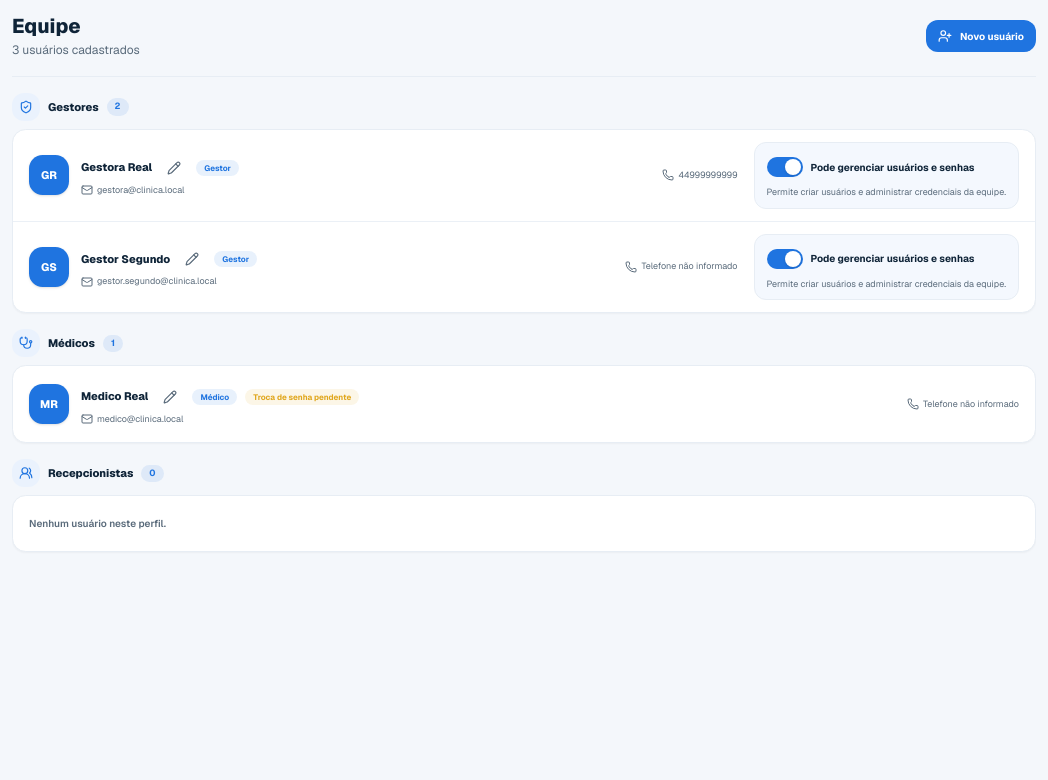
Test: EquipeClient › should_rollback_permission_when_backend_rejects_update
The width and height of the screenshot is (1048, 780).
Click the switch named "Pode gerenciar usuários e senhas: Gestor Segundo": (784, 259) [766,249,802,269]
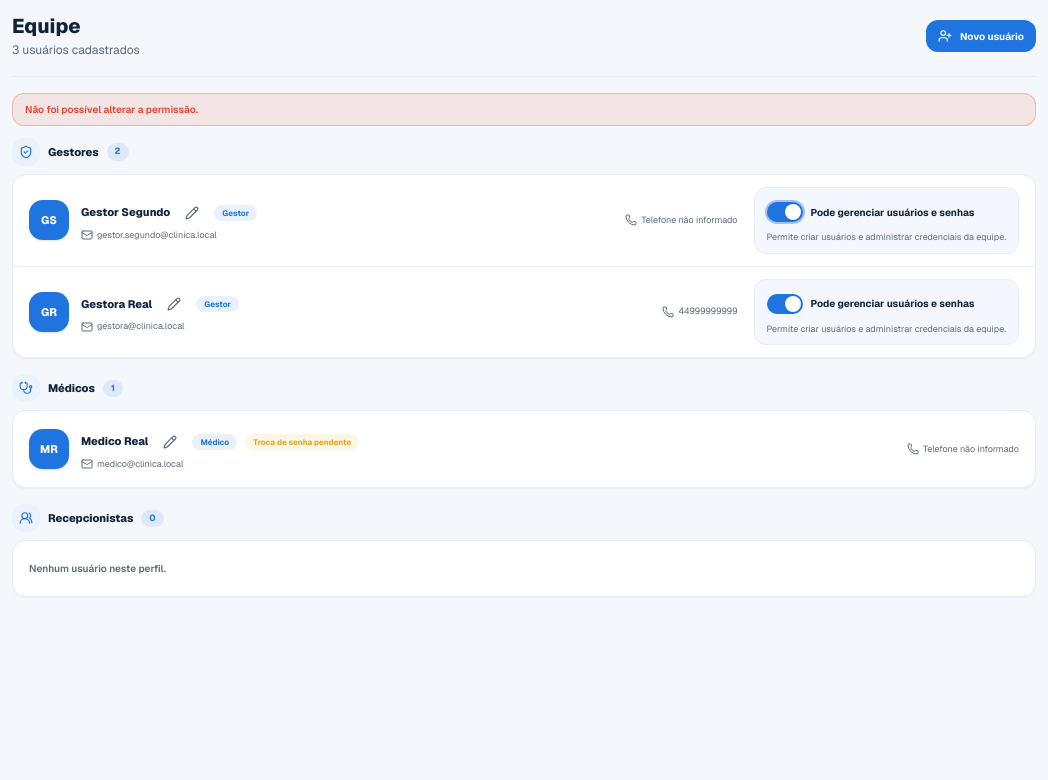
Expected: the switch named "Pode gerenciar usuários e senhas: Gestor Segundo" is checked, [766,202,802,222]
Result: the message reads "Não foi possível alterar a permissão." at [25,103,198,116]
